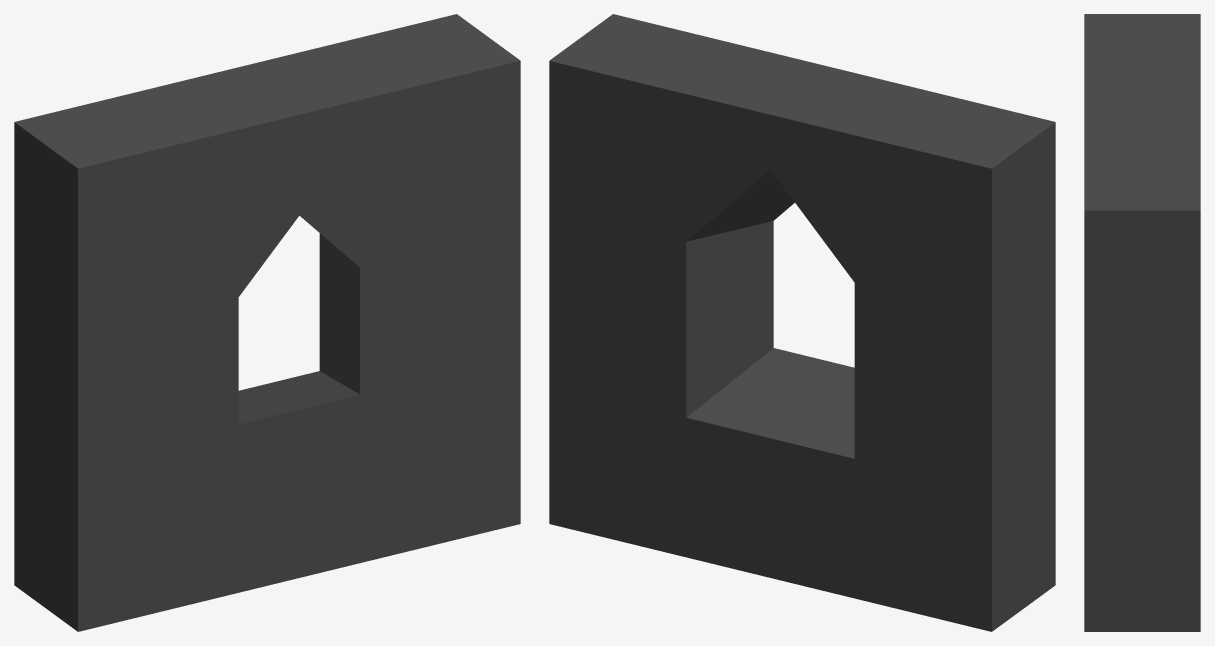
File: Wall_Flat_Opening_Big.fbx
The picture shows the model from 3 angles, left to right: view 1: azimuth 30°, elevation 25°; view 2: azimuth 150°, elevation 25°; view 3: azimuth 270°, elevation 25°; orthographic projection. The views are drawn at different scales.
Parts seen in each view (by area): view 1: Wall_Flat_Opening_Big; view 2: Wall_Flat_Opening_Big; view 3: Wall_Flat_Opening_Big.
Part boxes in pixels (bbox=[...]): Wall_Flat_Opening_Big: bbox=[14, 14, 520, 631]; Wall_Flat_Opening_Big: bbox=[549, 14, 1055, 631]; Wall_Flat_Opening_Big: bbox=[1084, 14, 1200, 631].
Size of the model in its own units: 800 by 800 by 200.
